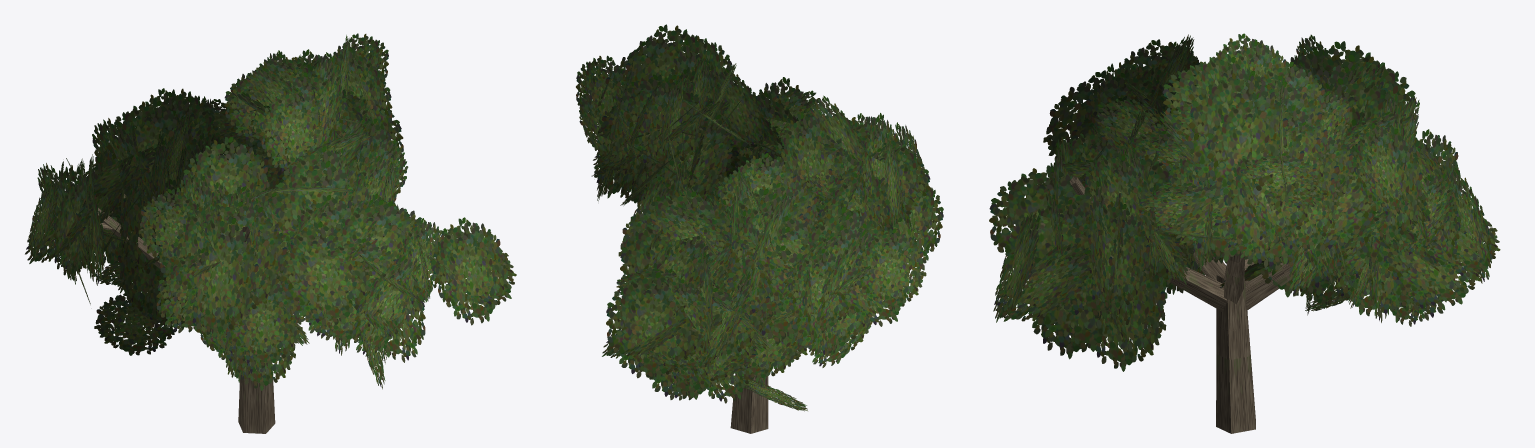
The model's file is Tree_Oak_Lone_2_LOD1.gltf.
3 renders of one model, left to right at view 1: azimuth 30°, elevation 25°; view 2: azimuth 150°, elevation 25°; view 3: azimuth 270°, elevation 25°, orthographic. The views are drawn at different scales.
Parts seen in each view (by area): view 1: Tree_Oak_Lone_2_LOD1; view 2: Tree_Oak_Lone_2_LOD1; view 3: Tree_Oak_Lone_2_LOD1.
Boxes of the visible parts, x1,y1,x2,y2 form: Tree_Oak_Lone_2_LOD1: (25, 33, 516, 433); Tree_Oak_Lone_2_LOD1: (576, 24, 943, 433); Tree_Oak_Lone_2_LOD1: (989, 33, 1500, 433).
Bounding box in the file's own units: 16.65 × 15.36 × 17.9.
Materials: 2 (2 with a texture image).
